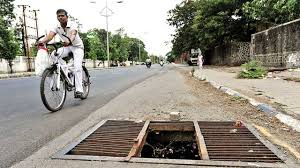Manhole-Open: (63, 100, 296, 168)
human: (37, 6, 108, 117)
